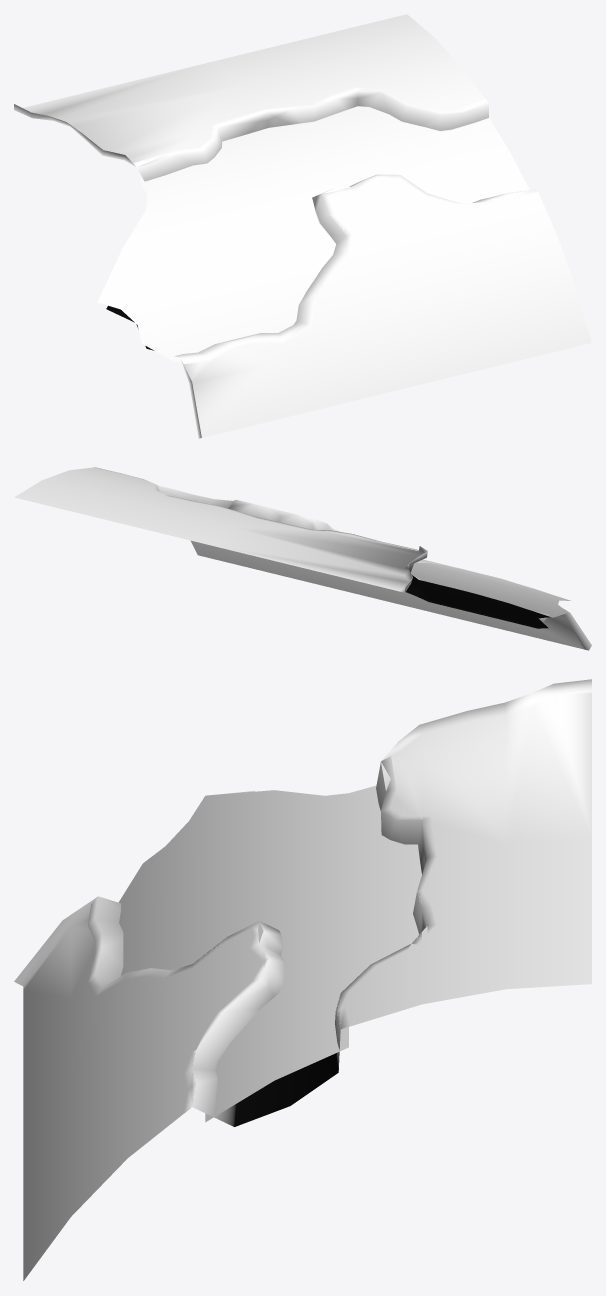
The model's file is grd_Re_F_0.dae.
3 views of the same model, one above another, from view 1: azimuth 30°, elevation 25°; view 2: azimuth 150°, elevation 25°; view 3: azimuth 270°, elevation 25° (orthographic). The views are drawn at different scales.
Visible parts, largest first — view 1: grass_1_0, river_2_0, cliff_river_0_0, river_edge_3_0; view 2: grass_1_0, cliff_river_0_0, river_2_0; view 3: grass_1_0, river_2_0, cliff_river_0_0, river_edge_3_0.
Boxes of the visible parts, <box> form: grass_1_0: <box>14,14,591,438</box>; river_2_0: <box>97,106,528,361</box>; cliff_river_0_0: <box>106,87,539,364</box>; river_edge_3_0: <box>97,106,529,362</box>; grass_1_0: <box>14,467,591,650</box>; cliff_river_0_0: <box>93,467,550,628</box>; river_2_0: <box>411,559,569,617</box>; grass_1_0: <box>14,679,591,1280</box>; river_2_0: <box>118,786,421,1121</box>; cliff_river_0_0: <box>88,756,437,1126</box>; river_edge_3_0: <box>119,785,421,1122</box>.
Size of the model in its own units: 576 by 252 by 430.
4 materials, 1 textured.
